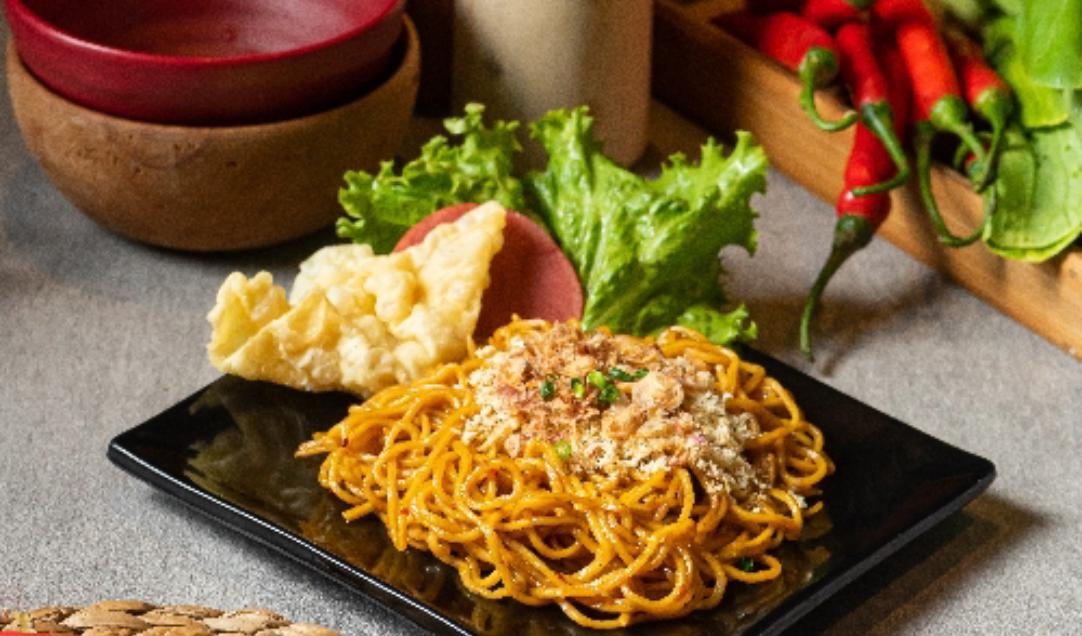Mie: (323, 318, 862, 624)
